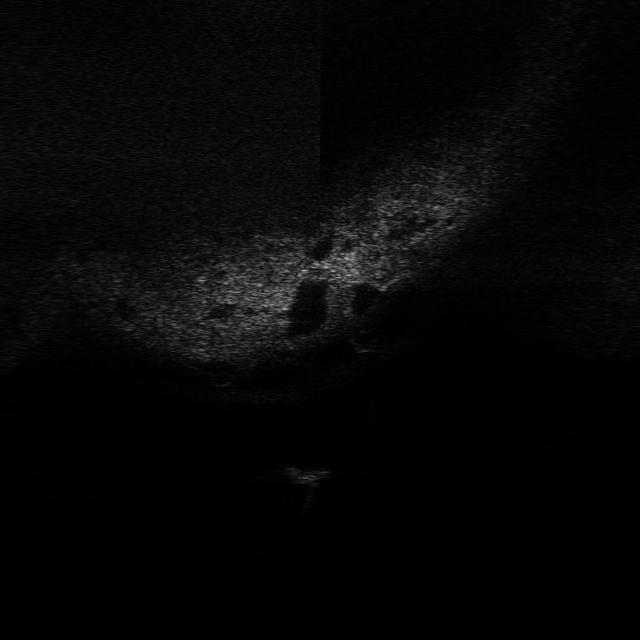ball: (344, 326, 384, 351)
cube: (274, 464, 334, 486)
